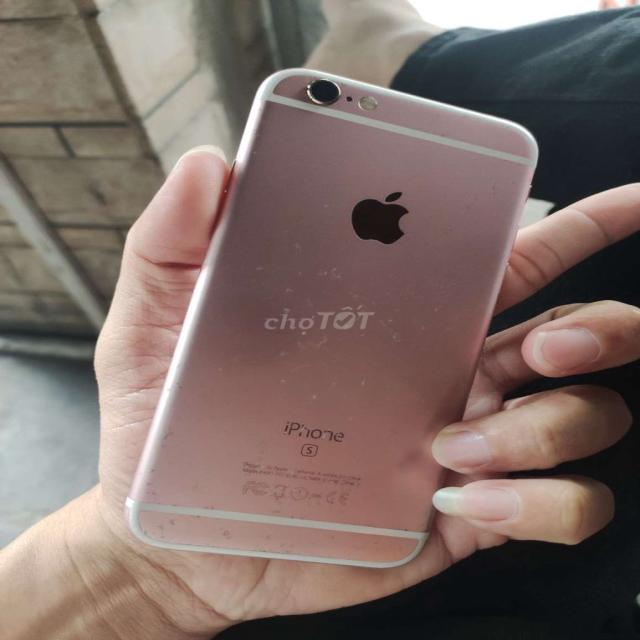scratch: (268, 331, 414, 429), (418, 104, 526, 227), (247, 489, 385, 558), (144, 465, 249, 551), (376, 285, 473, 352), (288, 72, 382, 134), (314, 261, 364, 297), (286, 226, 318, 260)
